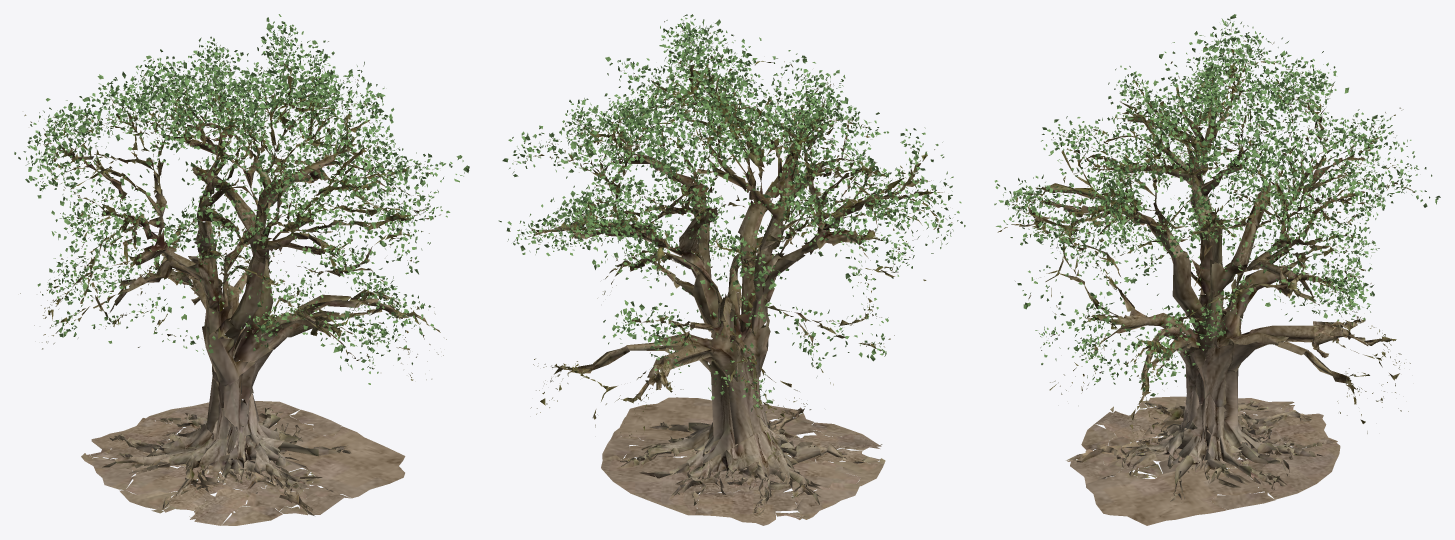
The model's file is oak_tree_web.glb.
3 views of the same model, side by side, from view 1: azimuth 30°, elevation 25°; view 2: azimuth 150°, elevation 25°; view 3: azimuth 270°, elevation 25° (orthographic). The views are drawn at different scales.
Visible parts, largest first — view 1: Oak_Trunk_Web, Oak_Canopy_Web; view 2: Oak_Trunk_Web, Oak_Canopy_Web; view 3: Oak_Trunk_Web, Oak_Canopy_Web.
Boxes of the visible parts, left/top/right/bottom form: Oak_Trunk_Web: left=20, top=33, right=446, bottom=525; Oak_Canopy_Web: left=14, top=14, right=469, bottom=384; Oak_Trunk_Web: left=509, top=21, right=952, bottom=525; Oak_Canopy_Web: left=498, top=14, right=965, bottom=411; Oak_Trunk_Web: left=997, top=27, right=1415, bottom=525; Oak_Canopy_Web: left=994, top=14, right=1440, bottom=396.
Bounding box in the file's own units: 9.31 × 10.06 × 9.52.
Materials: 2 (1 with a texture image).
